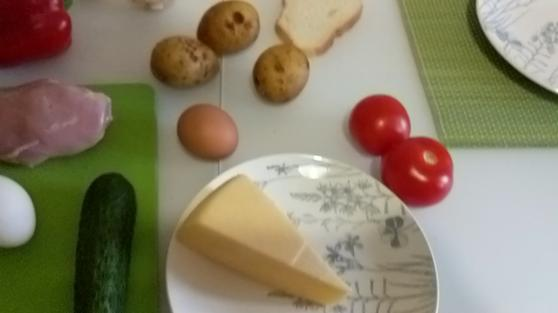cheese: (175, 172, 347, 303)
chicken_fillet: (3, 80, 118, 167)
cucumber: (77, 172, 143, 313)
egg: (172, 99, 238, 163), (1, 174, 42, 252)
potato: (153, 37, 222, 90), (254, 45, 313, 106), (200, 2, 261, 51)
tomato: (382, 134, 456, 205), (345, 94, 411, 152)
white_bread: (271, 1, 364, 52)
